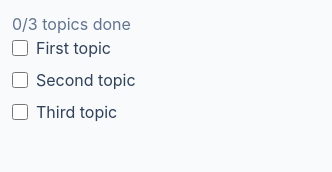
Marking a week as done › removes Done again when a topic is unchecked (keyboard)
Click the checkbox labelled "First topic" at (20,48), box [12,40,28,56]
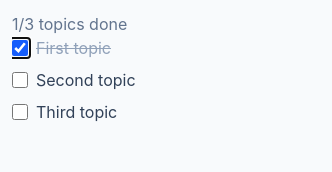
Click the checkbox labelled "Second topic" at (20,80), box [12,72,28,88]
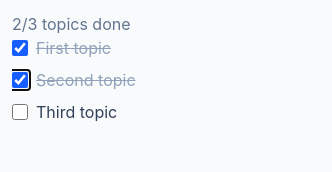
Click the checkbox labelled "Third topic" at (20,112), box [12,104,28,120]
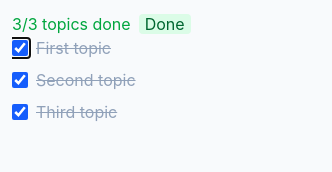
Check: the text "Done" is shown, box [139,14,191,34]
Type keys " "
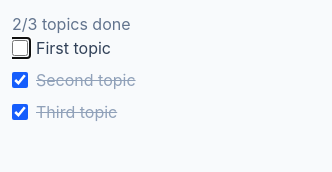
Check: the checkbox labelled "First topic" is not checked, box [12,40,28,56]
